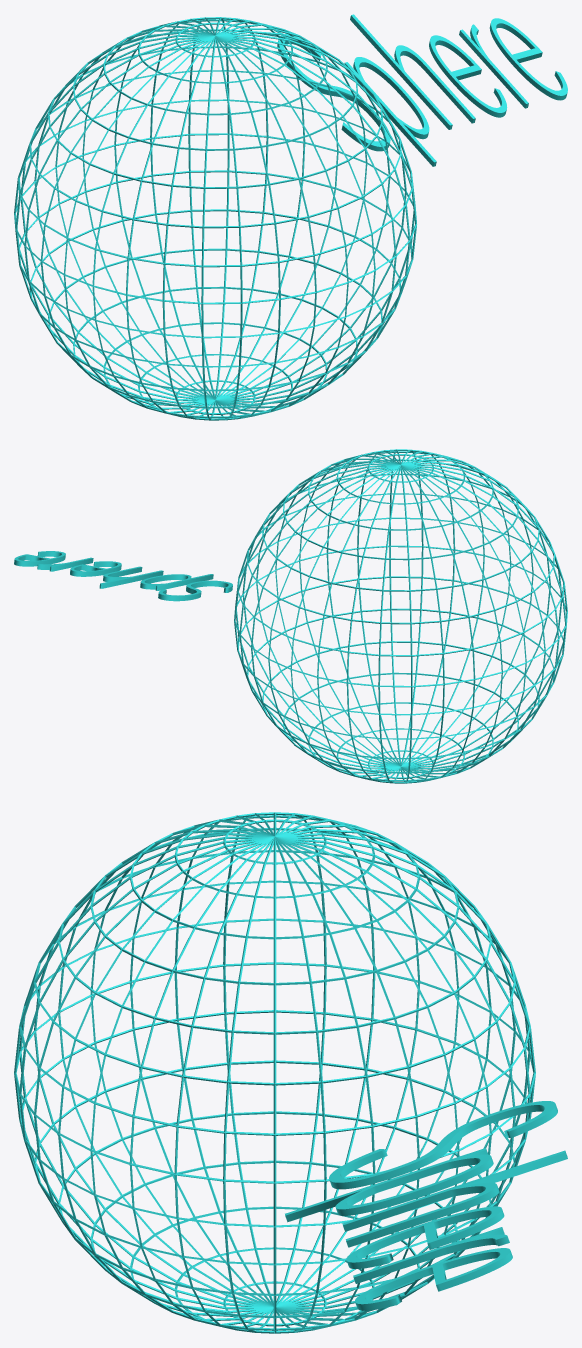
Rendered from sphereflattext.gltf.
3 views of the same model, one above another, from view 1: azimuth 30°, elevation 25°; view 2: azimuth 150°, elevation 25°; view 3: azimuth 270°, elevation 25° (orthographic). The views are drawn at different scales.
Visible parts, largest first — view 1: Sphere, Text; view 2: Sphere, Text; view 3: Sphere, Text.
Part boxes in pixels (box(x1,y1,x2,y2)): Sphere: box(14, 17, 416, 420); Text: box(277, 14, 567, 166); Sphere: box(234, 449, 567, 783); Text: box(14, 551, 232, 601); Sphere: box(14, 812, 535, 1333); Text: box(285, 1101, 567, 1310).
Bounding box in the file's own units: 244 × 151 × 160.
